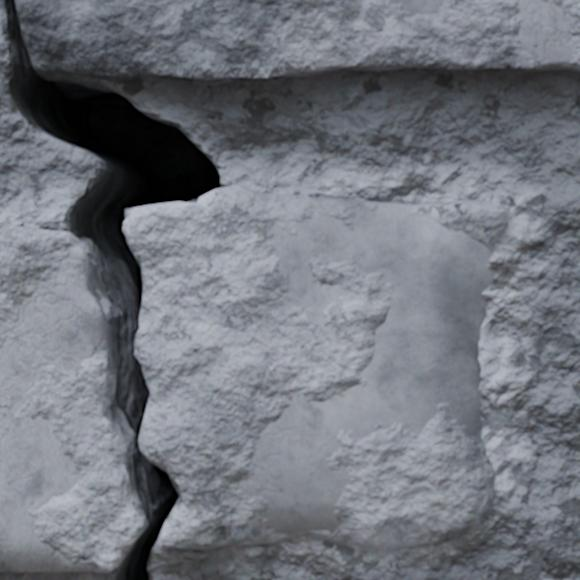brick: (16, 0, 579, 84)
broken_brick: (124, 184, 509, 551), (0, 224, 140, 573)
crack: (1, 0, 224, 579)
